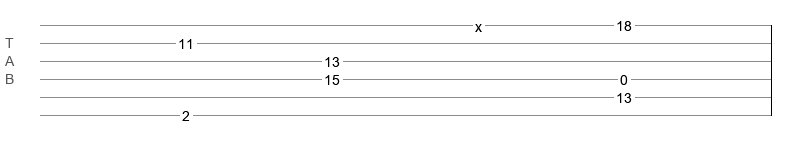0: (620, 72, 628, 82)
11: (178, 36, 194, 46)
13: (324, 54, 340, 64), (616, 90, 632, 100)
15: (324, 72, 340, 82)
18: (616, 18, 632, 28)
2: (182, 108, 190, 118)
x: (475, 19, 482, 27)
